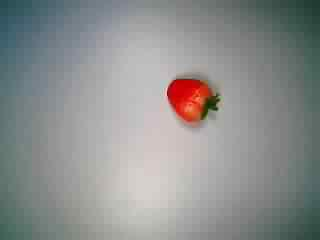strawberry: (162, 69, 228, 135)
